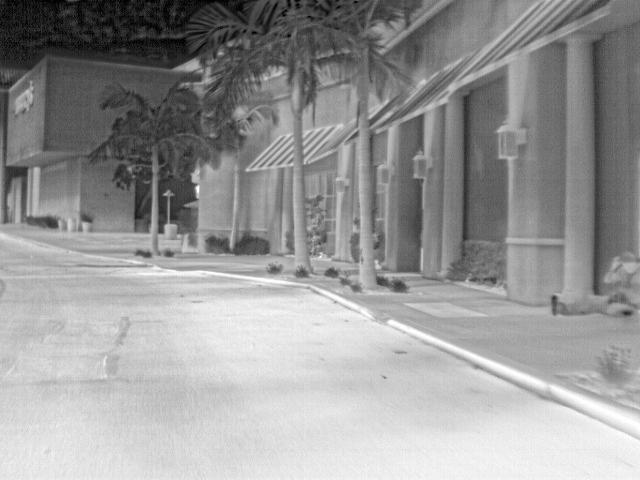person: (550, 250, 639, 317)
